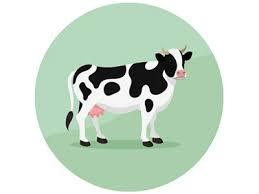cow: (65, 43, 193, 148)
